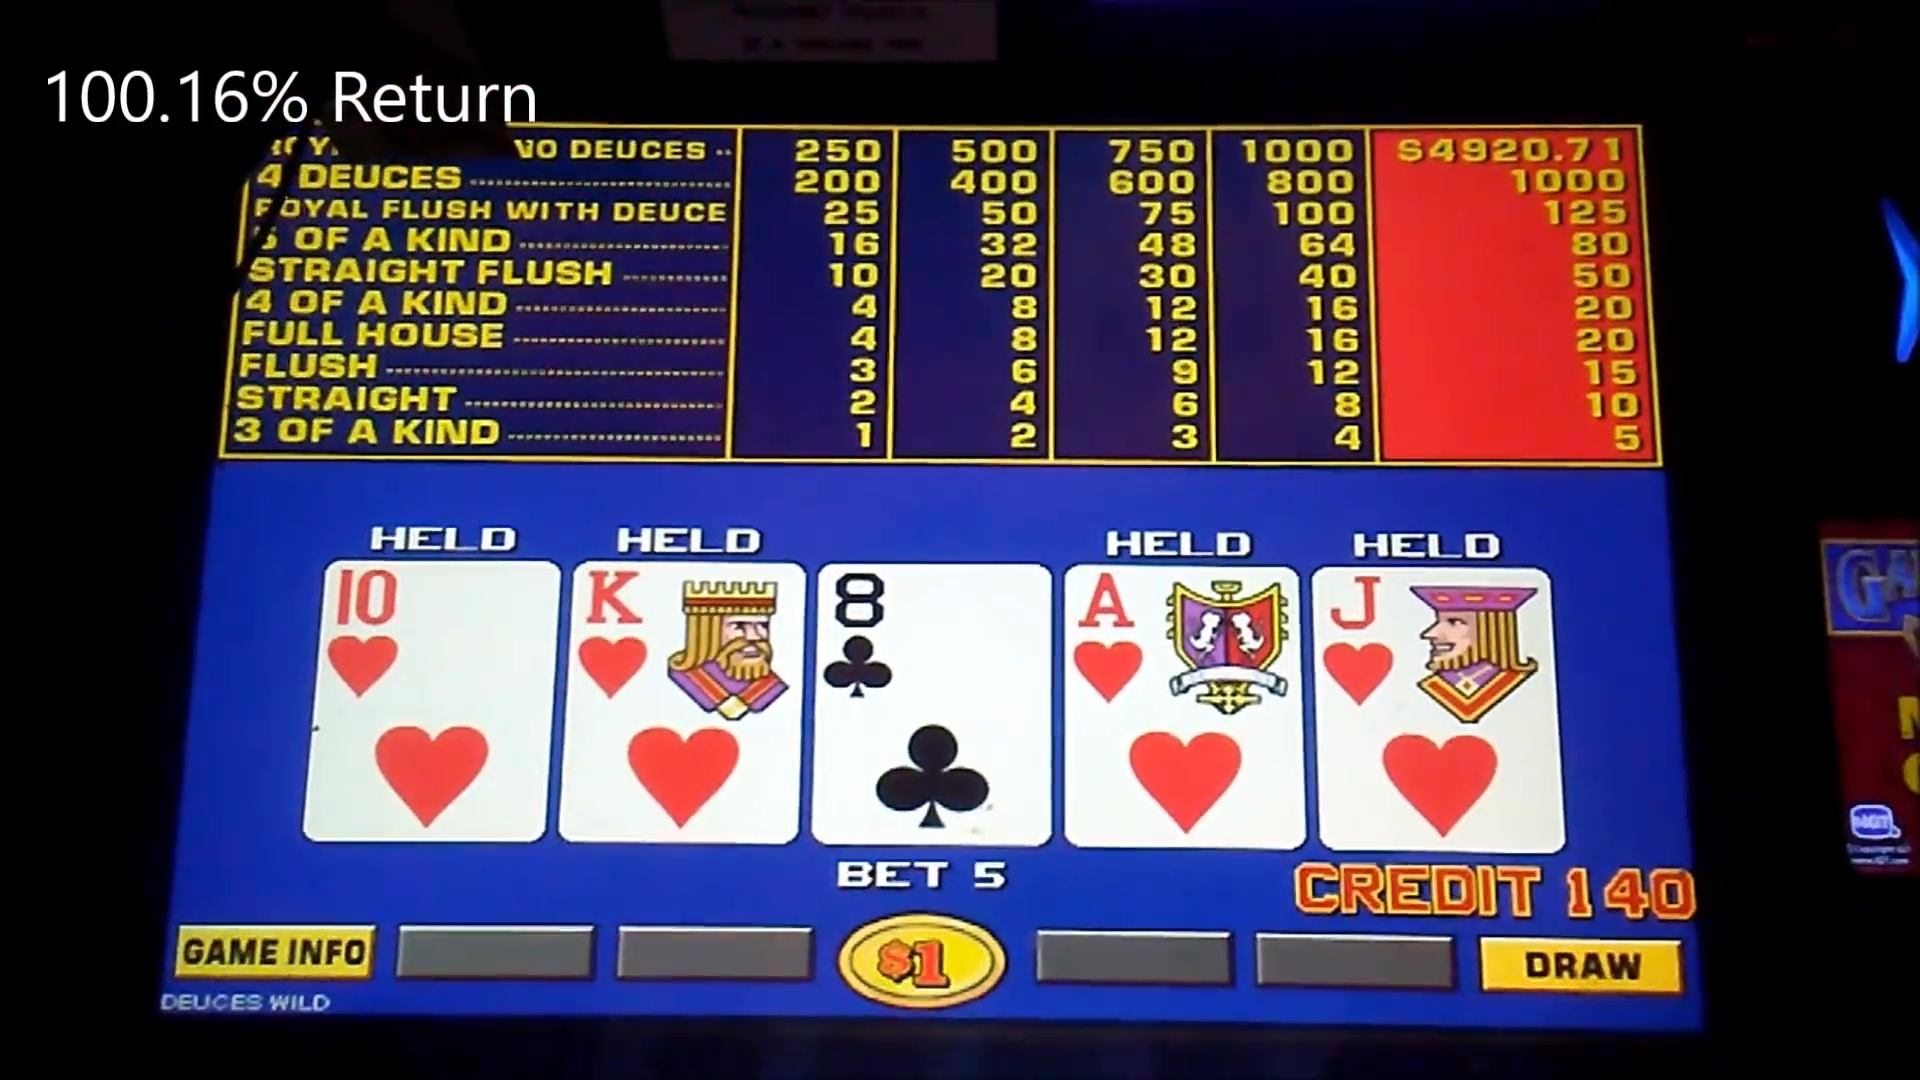C8: (819, 560, 1050, 702)
HA: (1067, 563, 1302, 705)
HJ: (1312, 562, 1545, 703)
HK: (575, 560, 793, 702)
HT: (324, 563, 550, 702)
